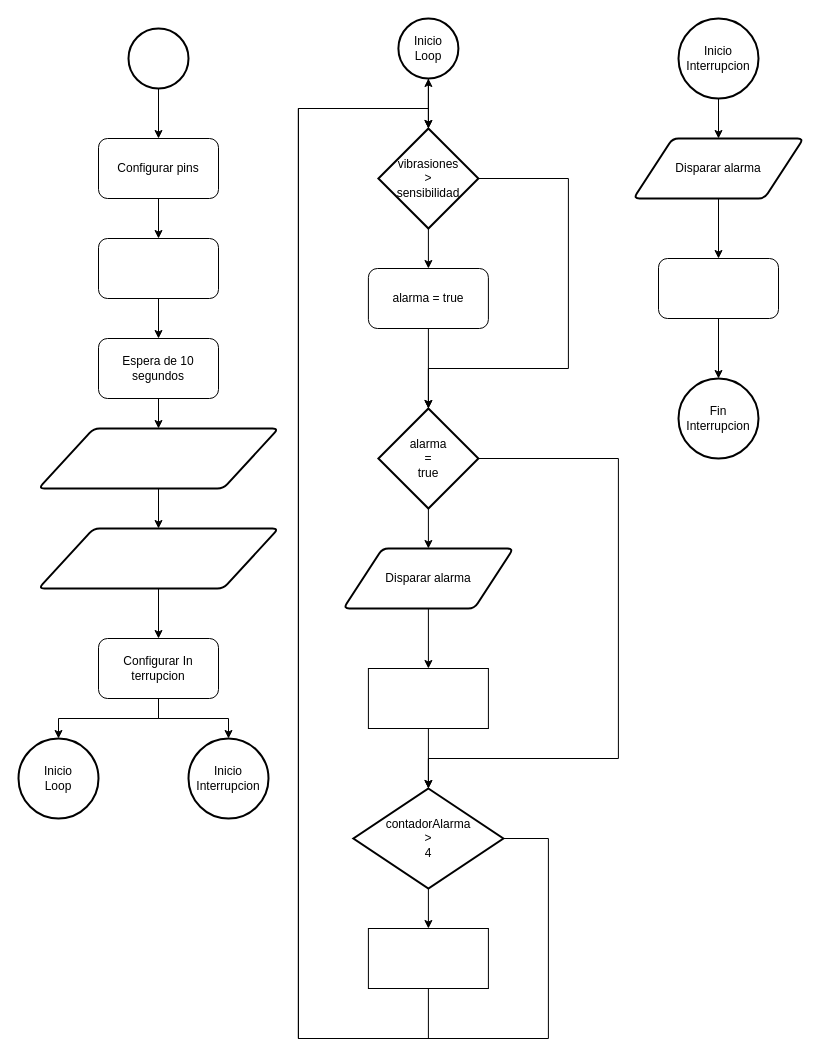
Some shapes in this 821 by 1064 pixel diagram are drawn without their labels. The shapes that lost their labels are listed below. From the top down, each one's box as (x1, y1, x2, y2) in pixels, then its label:
(127, 27, 189, 89): Inicio Setup
(98, 238, 218, 298): Inicalizar Variables
(658, 258, 778, 318): vibrasiones++
(37, 427, 279, 489): Disparar Alarma de reinicio
(37, 527, 279, 589): Leer sensibilidad
(367, 668, 488, 728): contadorAlarma++
(367, 928, 488, 988): alarma = false
